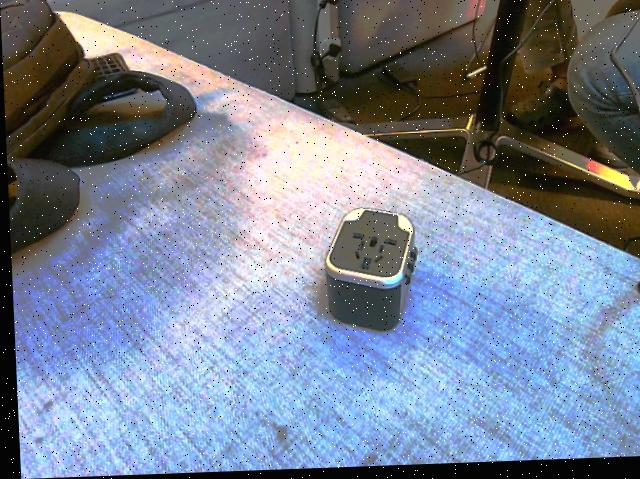adapter: (319, 208, 417, 335)
